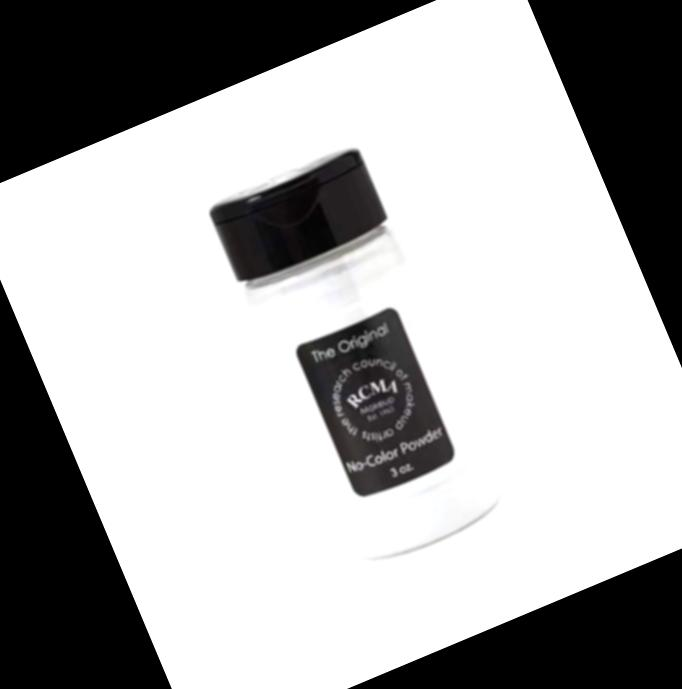cosmetic: (200, 140, 516, 571)
